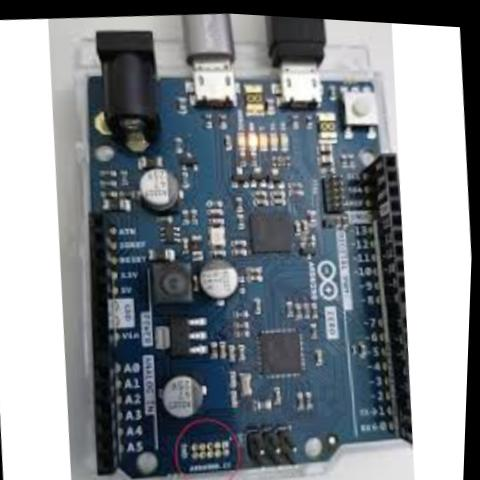Arduino-Zero: (40, 3, 426, 480)
